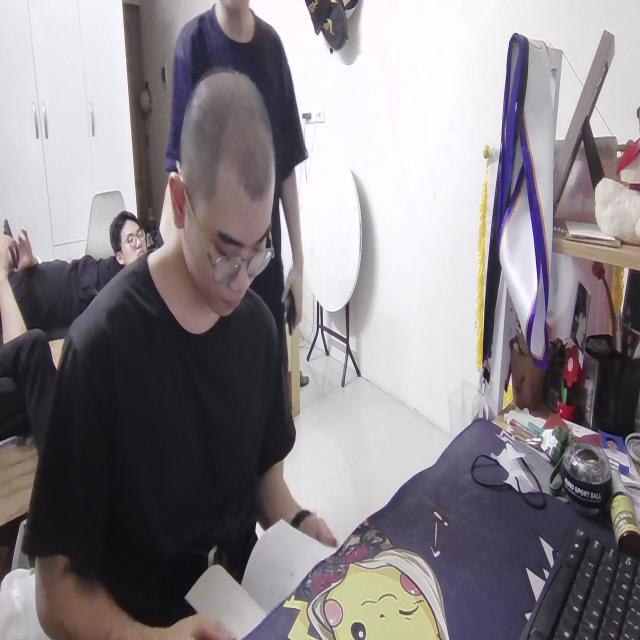book: (178, 513, 333, 640)
extra_person: (168, 0, 310, 372)
student: (21, 68, 339, 640)
